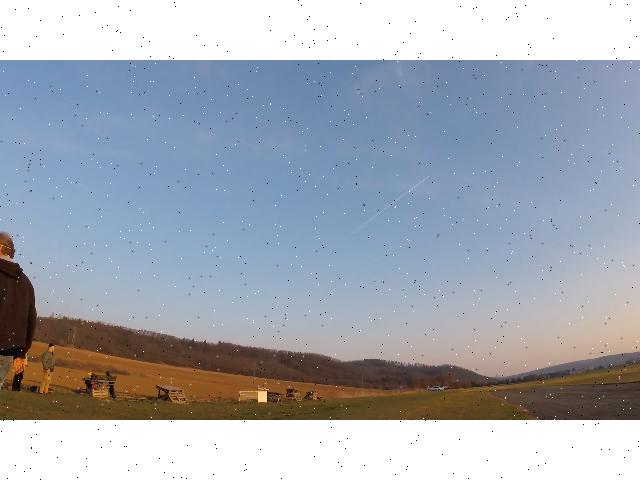Anti-Drone: (374, 281, 392, 283)
